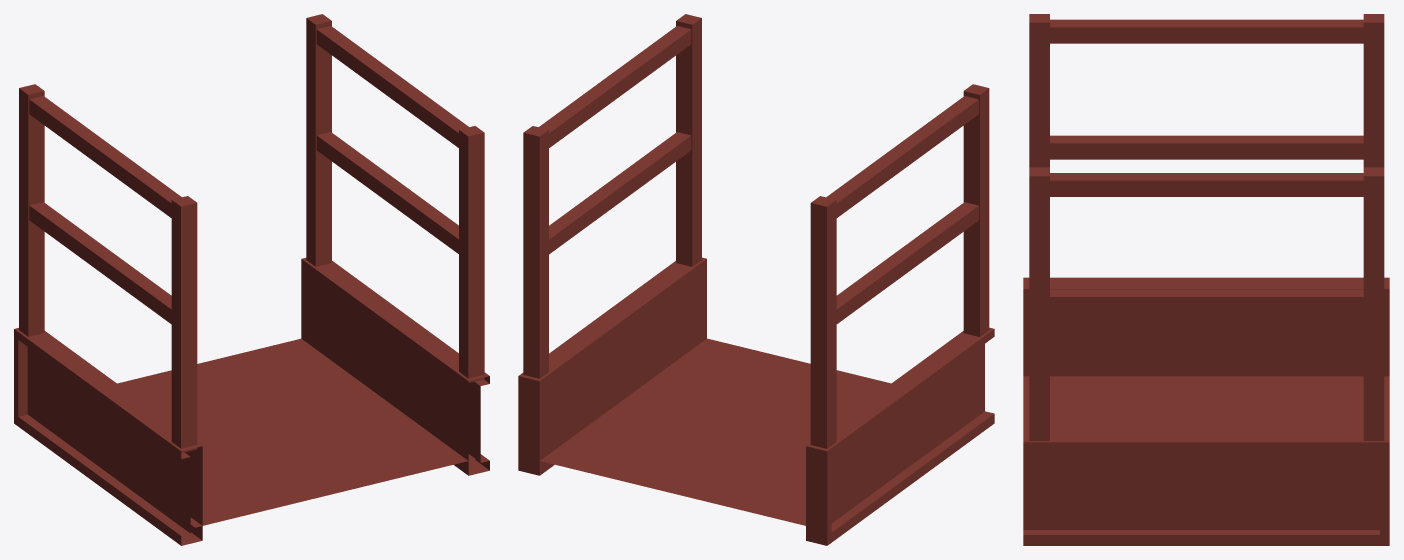
The model's file is Industrial catwalk walk way 2.fbx.
The picture shows the model from 3 angles, left to right: view 1: azimuth 30°, elevation 25°; view 2: azimuth 150°, elevation 25°; view 3: azimuth 270°, elevation 25°; orthographic projection. The views are drawn at different scales.
Visible parts, largest first — view 1: polySurface119; view 2: polySurface119; view 3: polySurface119.
Boxes of the visible parts, x1,y1,x2,y2 form: polySurface119: (14, 14, 489, 545); polySurface119: (518, 14, 994, 545); polySurface119: (1023, 14, 1389, 545).
Bounding box in the file's own units: 129 × 134 × 121.
